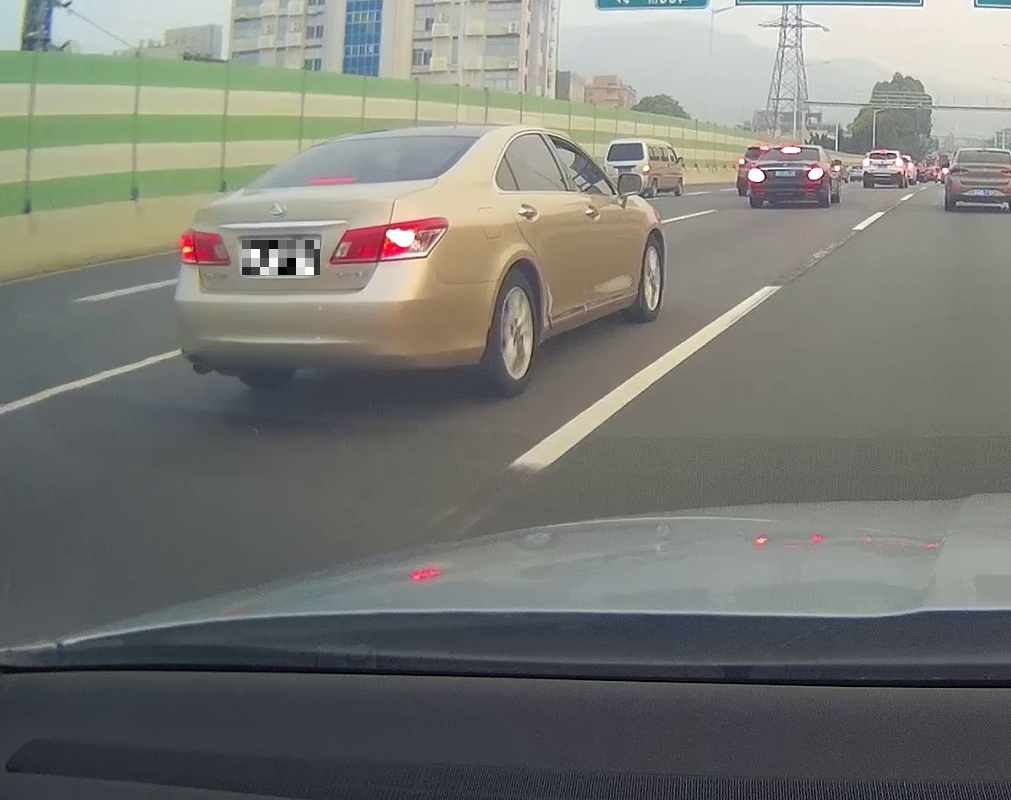L_light: (178, 227, 231, 266), (748, 168, 766, 184), (949, 166, 968, 175), (862, 160, 871, 167)
R_light: (329, 216, 450, 265), (807, 167, 824, 181), (1000, 168, 1011, 176), (895, 160, 903, 167)
T_light: (306, 176, 359, 186), (780, 147, 801, 153), (978, 150, 991, 155), (880, 151, 887, 155)
day-brake: (747, 144, 826, 208), (862, 150, 904, 188)
day-no: (947, 148, 1011, 211)
day-right: (172, 125, 496, 403)
plate_1: (242, 240, 320, 275)
